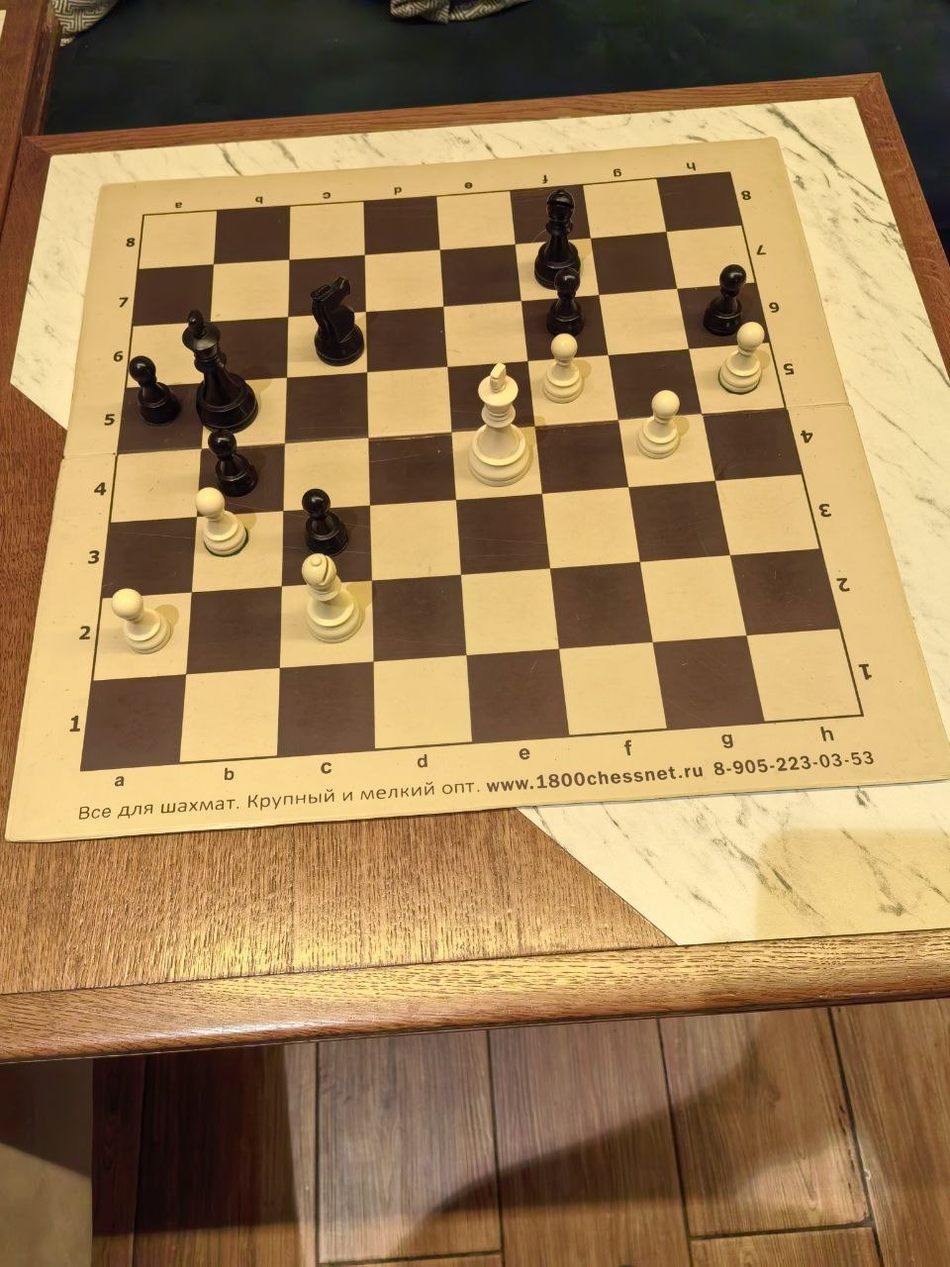black-bishop: (475, 634, 594, 792)
black-pawn: (238, 950, 356, 1109)
black-rook: (831, 475, 950, 634), (0, 950, 119, 1109), (712, 634, 831, 792), (119, 792, 238, 950), (594, 475, 712, 634)
white-bishop: (119, 475, 238, 634)
white-pawn: (594, 158, 712, 317)
white-queen: (238, 317, 356, 475)
white-rook: (0, 475, 119, 634), (831, 317, 950, 475), (119, 634, 238, 792), (594, 317, 712, 475), (238, 792, 356, 950)
